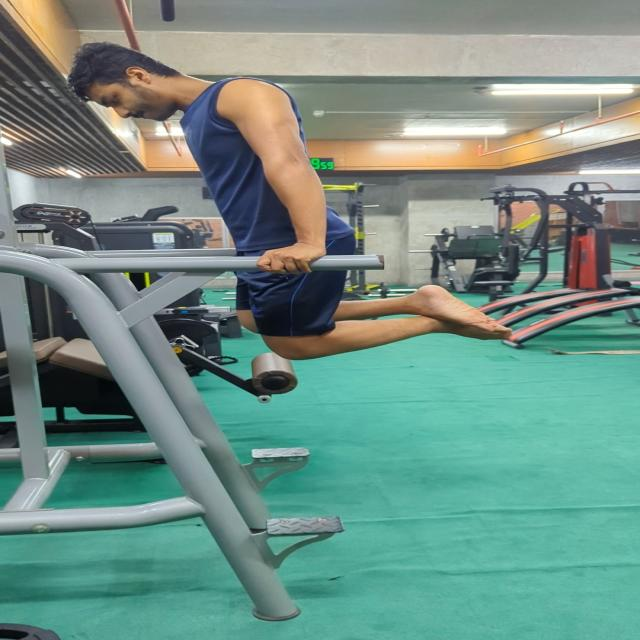Normal_Dips: (68, 37, 525, 368)
